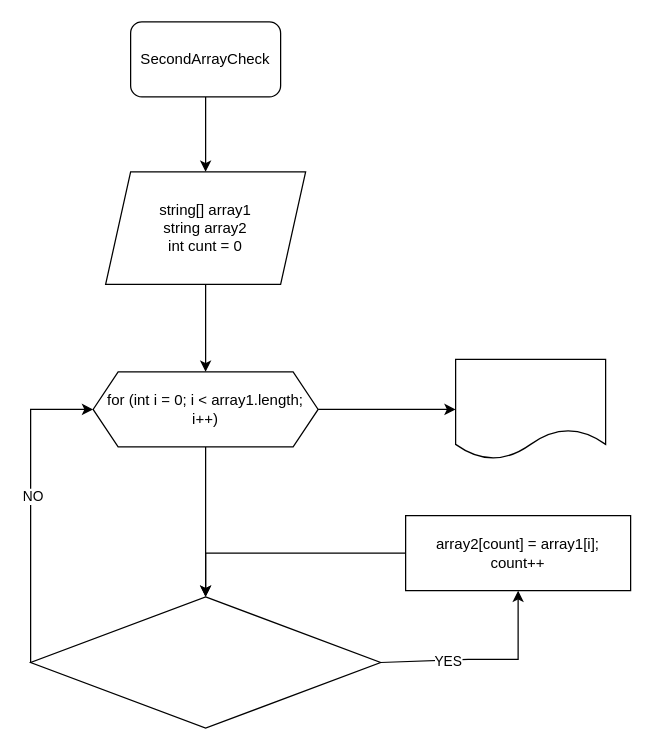
This 653x750 diagram has some shape labels left out. The shapes that lost their labels are listed below. From the top down, each one's centre as x and y in pixels, then its label:
point 530,408: Print (array2)
point 205,662: if (array1[i].length <= 3)
